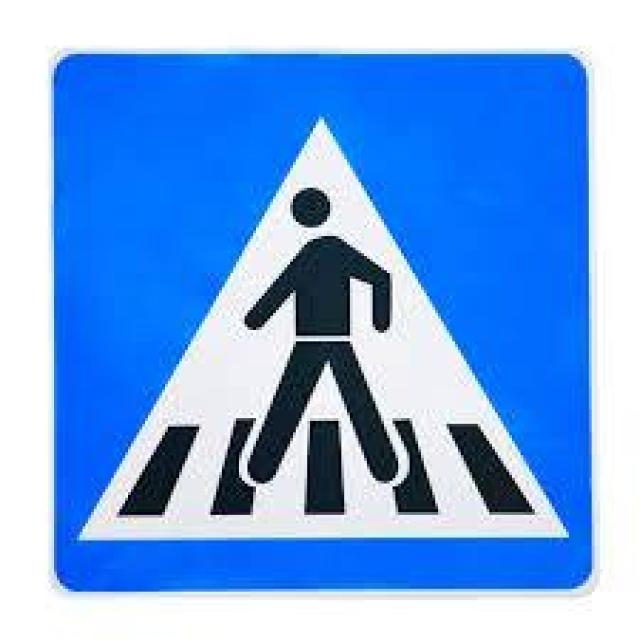Pedestrain_crossing: (57, 52, 592, 592)
